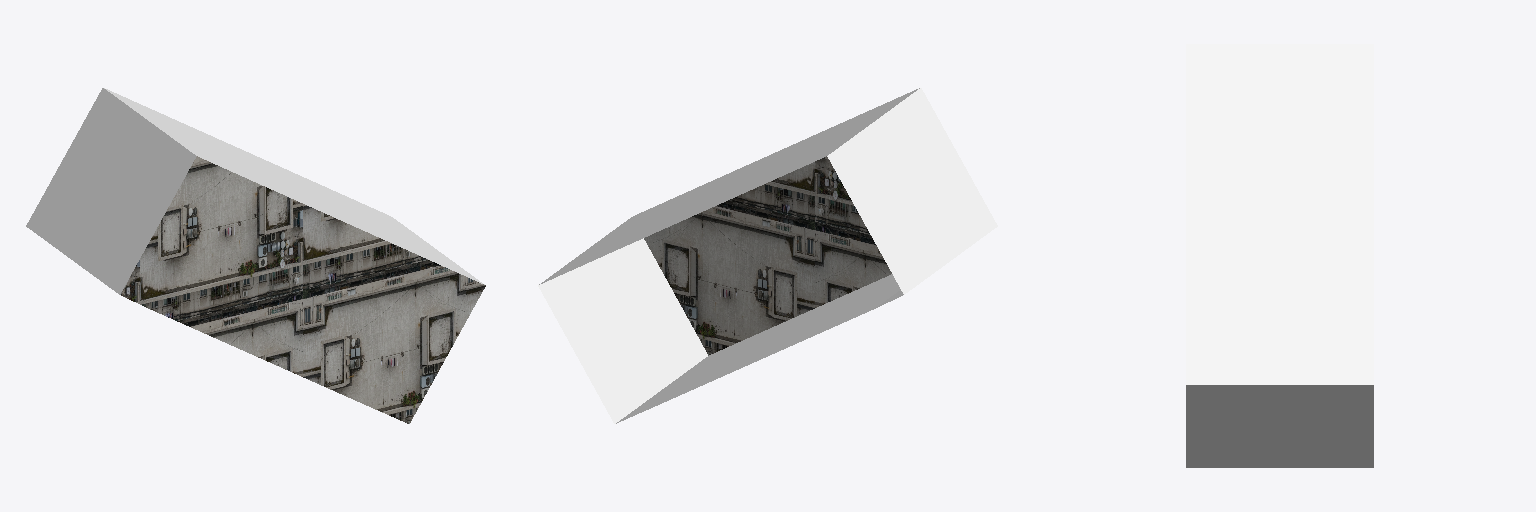
3 views of the same model, side by side, from view 1: azimuth 30°, elevation 25°; view 2: azimuth 150°, elevation 25°; view 3: azimuth 270°, elevation 25° (orthographic).
Parts seen in each view (by area): view 1: Building; view 2: Building; view 3: Building.
Boxes of the visible parts, x1=… form: Building: x1=26, y1=88, x2=485, y2=423; Building: x1=538, y1=88, x2=997, y2=423; Building: x1=1186, y1=44, x2=1373, y2=467.
Bounding box in the file's own units: 13.49 × 11.27 × 6.
Materials: 2 (1 with a texture image).